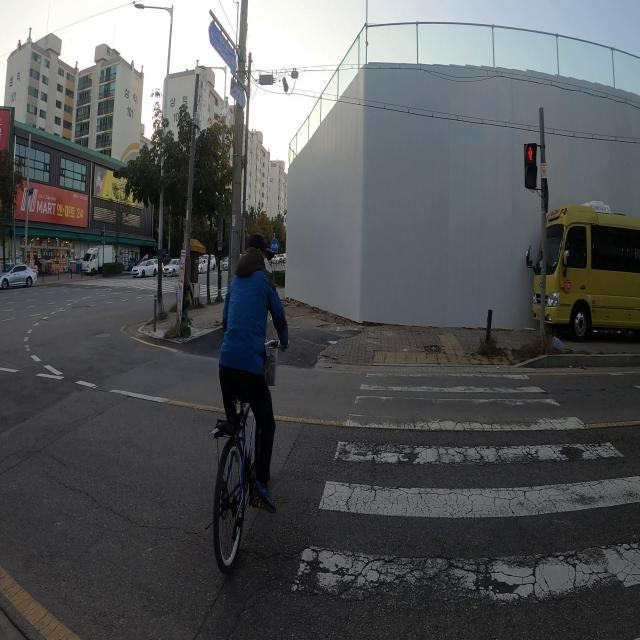crosswalk: (289, 369, 639, 607), (60, 277, 238, 301)
